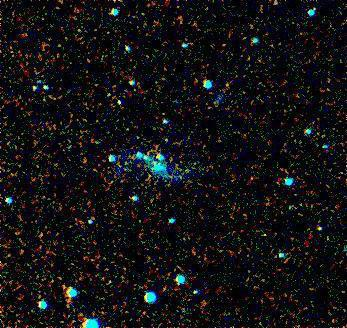star: (303, 0, 333, 25)
